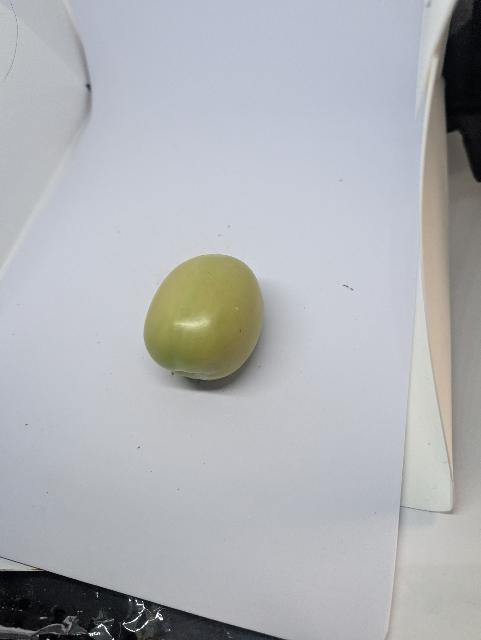green: (141, 250, 268, 383)
